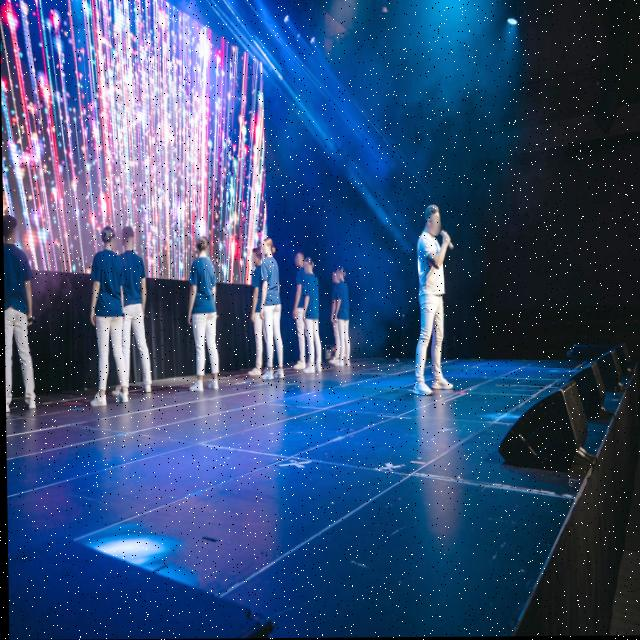Person: (84, 222, 132, 409), (409, 200, 453, 401), (114, 221, 156, 403), (3, 211, 37, 426), (181, 232, 224, 396), (259, 235, 285, 389), (247, 246, 272, 385), (301, 257, 323, 386), (333, 266, 355, 370), (290, 250, 307, 375), (329, 272, 344, 368)
